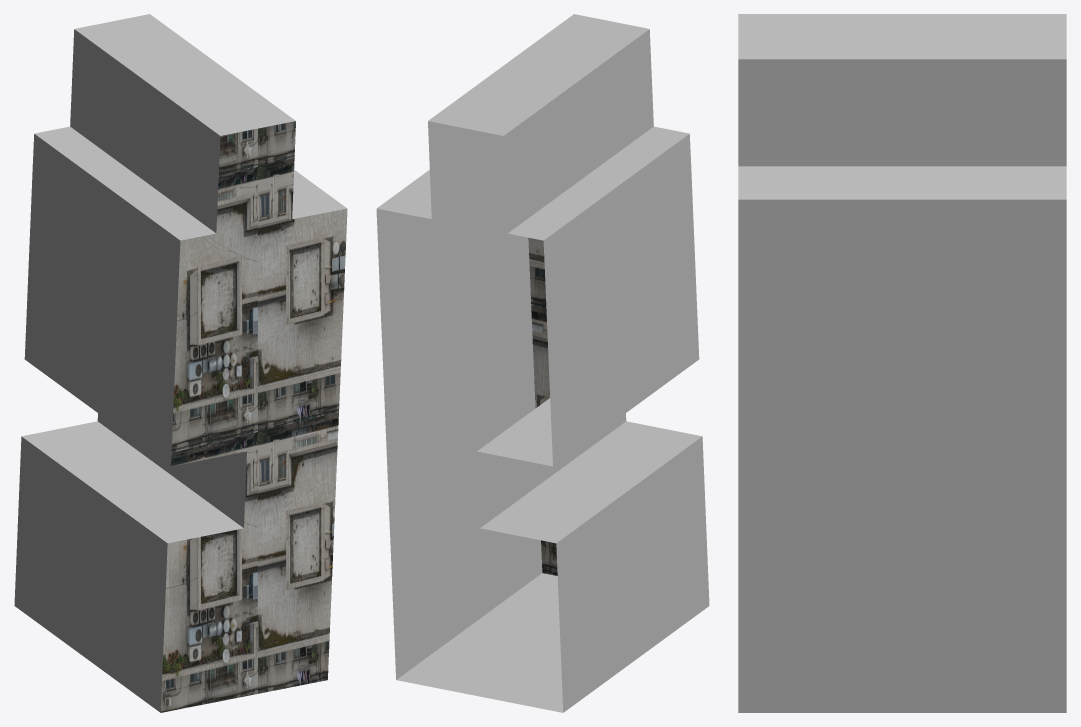
The model's file is geospecific_1217.obj.
3 renders of one model, left to right at view 1: azimuth 30°, elevation 25°; view 2: azimuth 150°, elevation 25°; view 3: azimuth 270°, elevation 25°, orthographic. The views are drawn at different scales.
Visible parts, largest first — view 1: Building; view 2: Building; view 3: Building.
Boxes of the visible parts, x1,y1,x2,y2 form: Building: [14, 14, 347, 712]; Building: [376, 14, 709, 712]; Building: [738, 14, 1066, 712].
Bounding box in the file's own units: 8.85 × 25.82 × 12.
